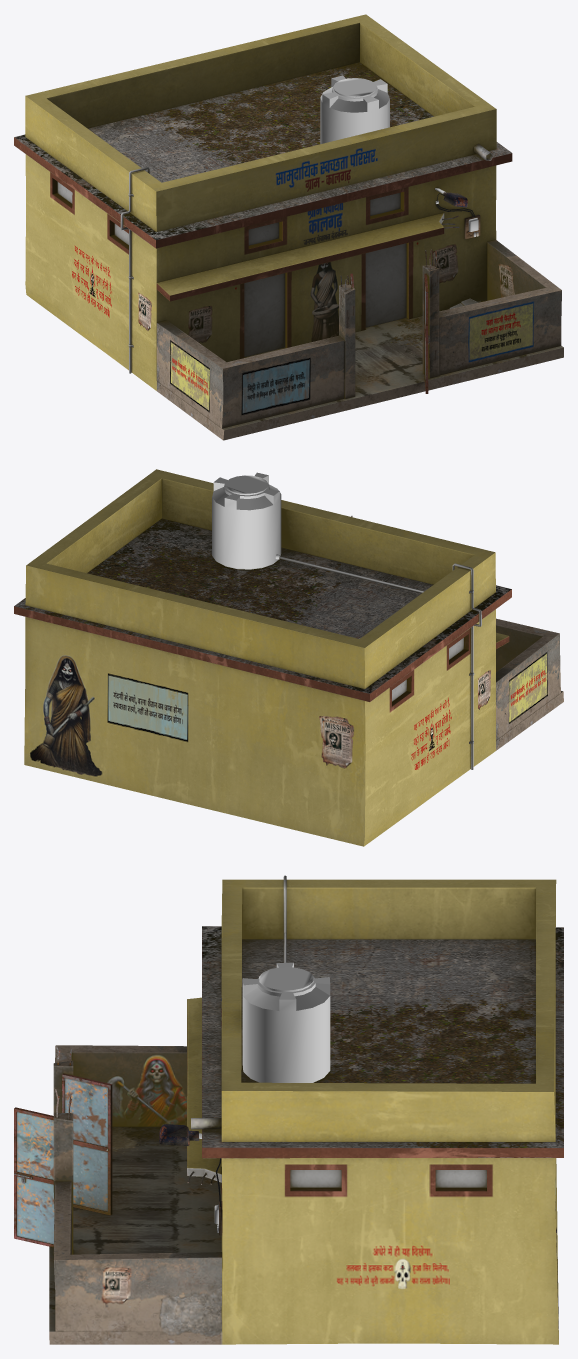
Rendered from indian_community_cleanliness_complex.obj.
3 views of the same model, one above another, from view 1: azimuth 30°, elevation 25°; view 2: azimuth 150°, elevation 25°; view 3: azimuth 270°, elevation 25° (orthographic). The views are drawn at different scales.
Visible parts, largest first — view 1: obj2, obj1, obj3; view 2: obj2, obj1; view 3: obj2, obj1, obj3.
Boxes of the visible parts, box(x1,y1,x2,y2) form: obj2: box(14, 14, 563, 440); obj1: box(320, 75, 389, 143); obj3: box(435, 188, 480, 238); obj2: box(14, 469, 563, 846); obj1: box(212, 472, 281, 569); obj2: box(14, 875, 563, 1344); obj1: box(242, 962, 330, 1082); obj3: box(159, 1124, 222, 1235).
Bounding box in the file's own units: 840 × 516 × 875.
